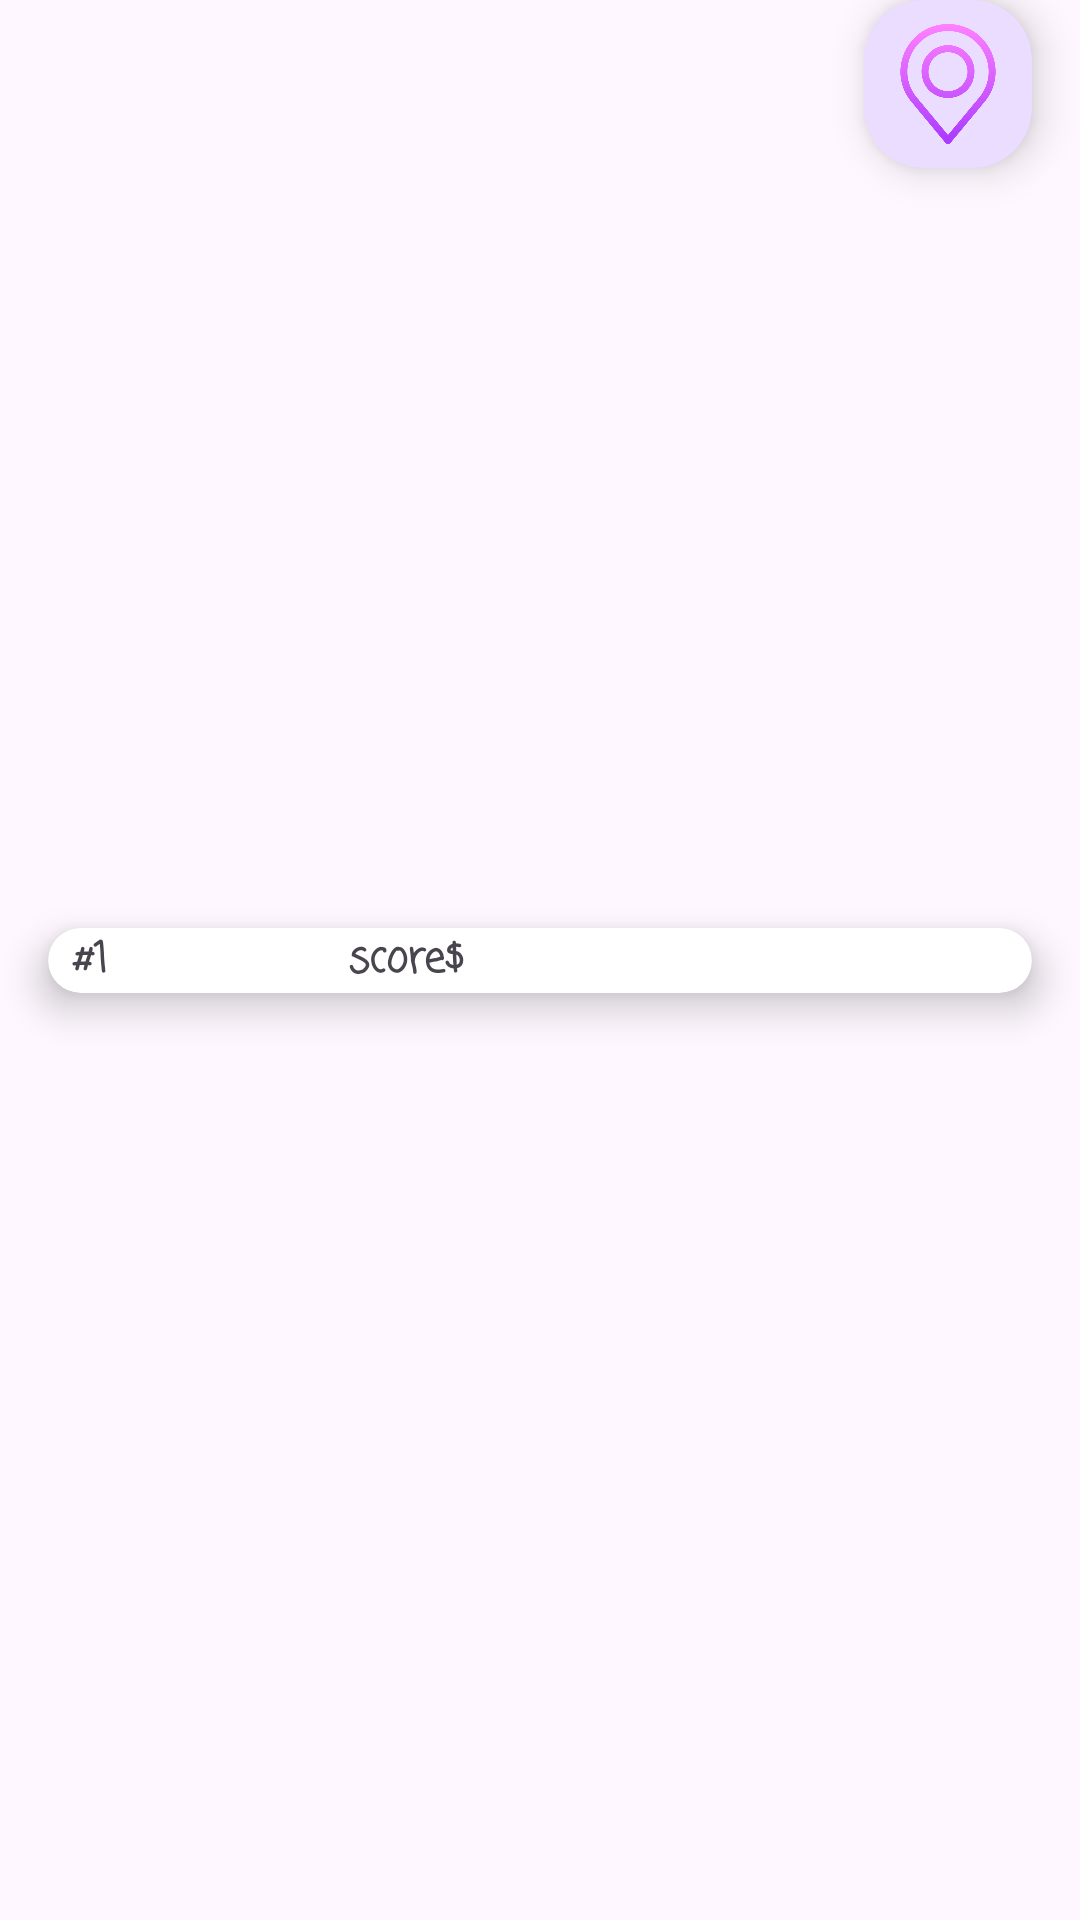

Icon click points for this 1080px×1920px phone screenshot, format (x=x, y=y):
location: (x=948, y=84)
